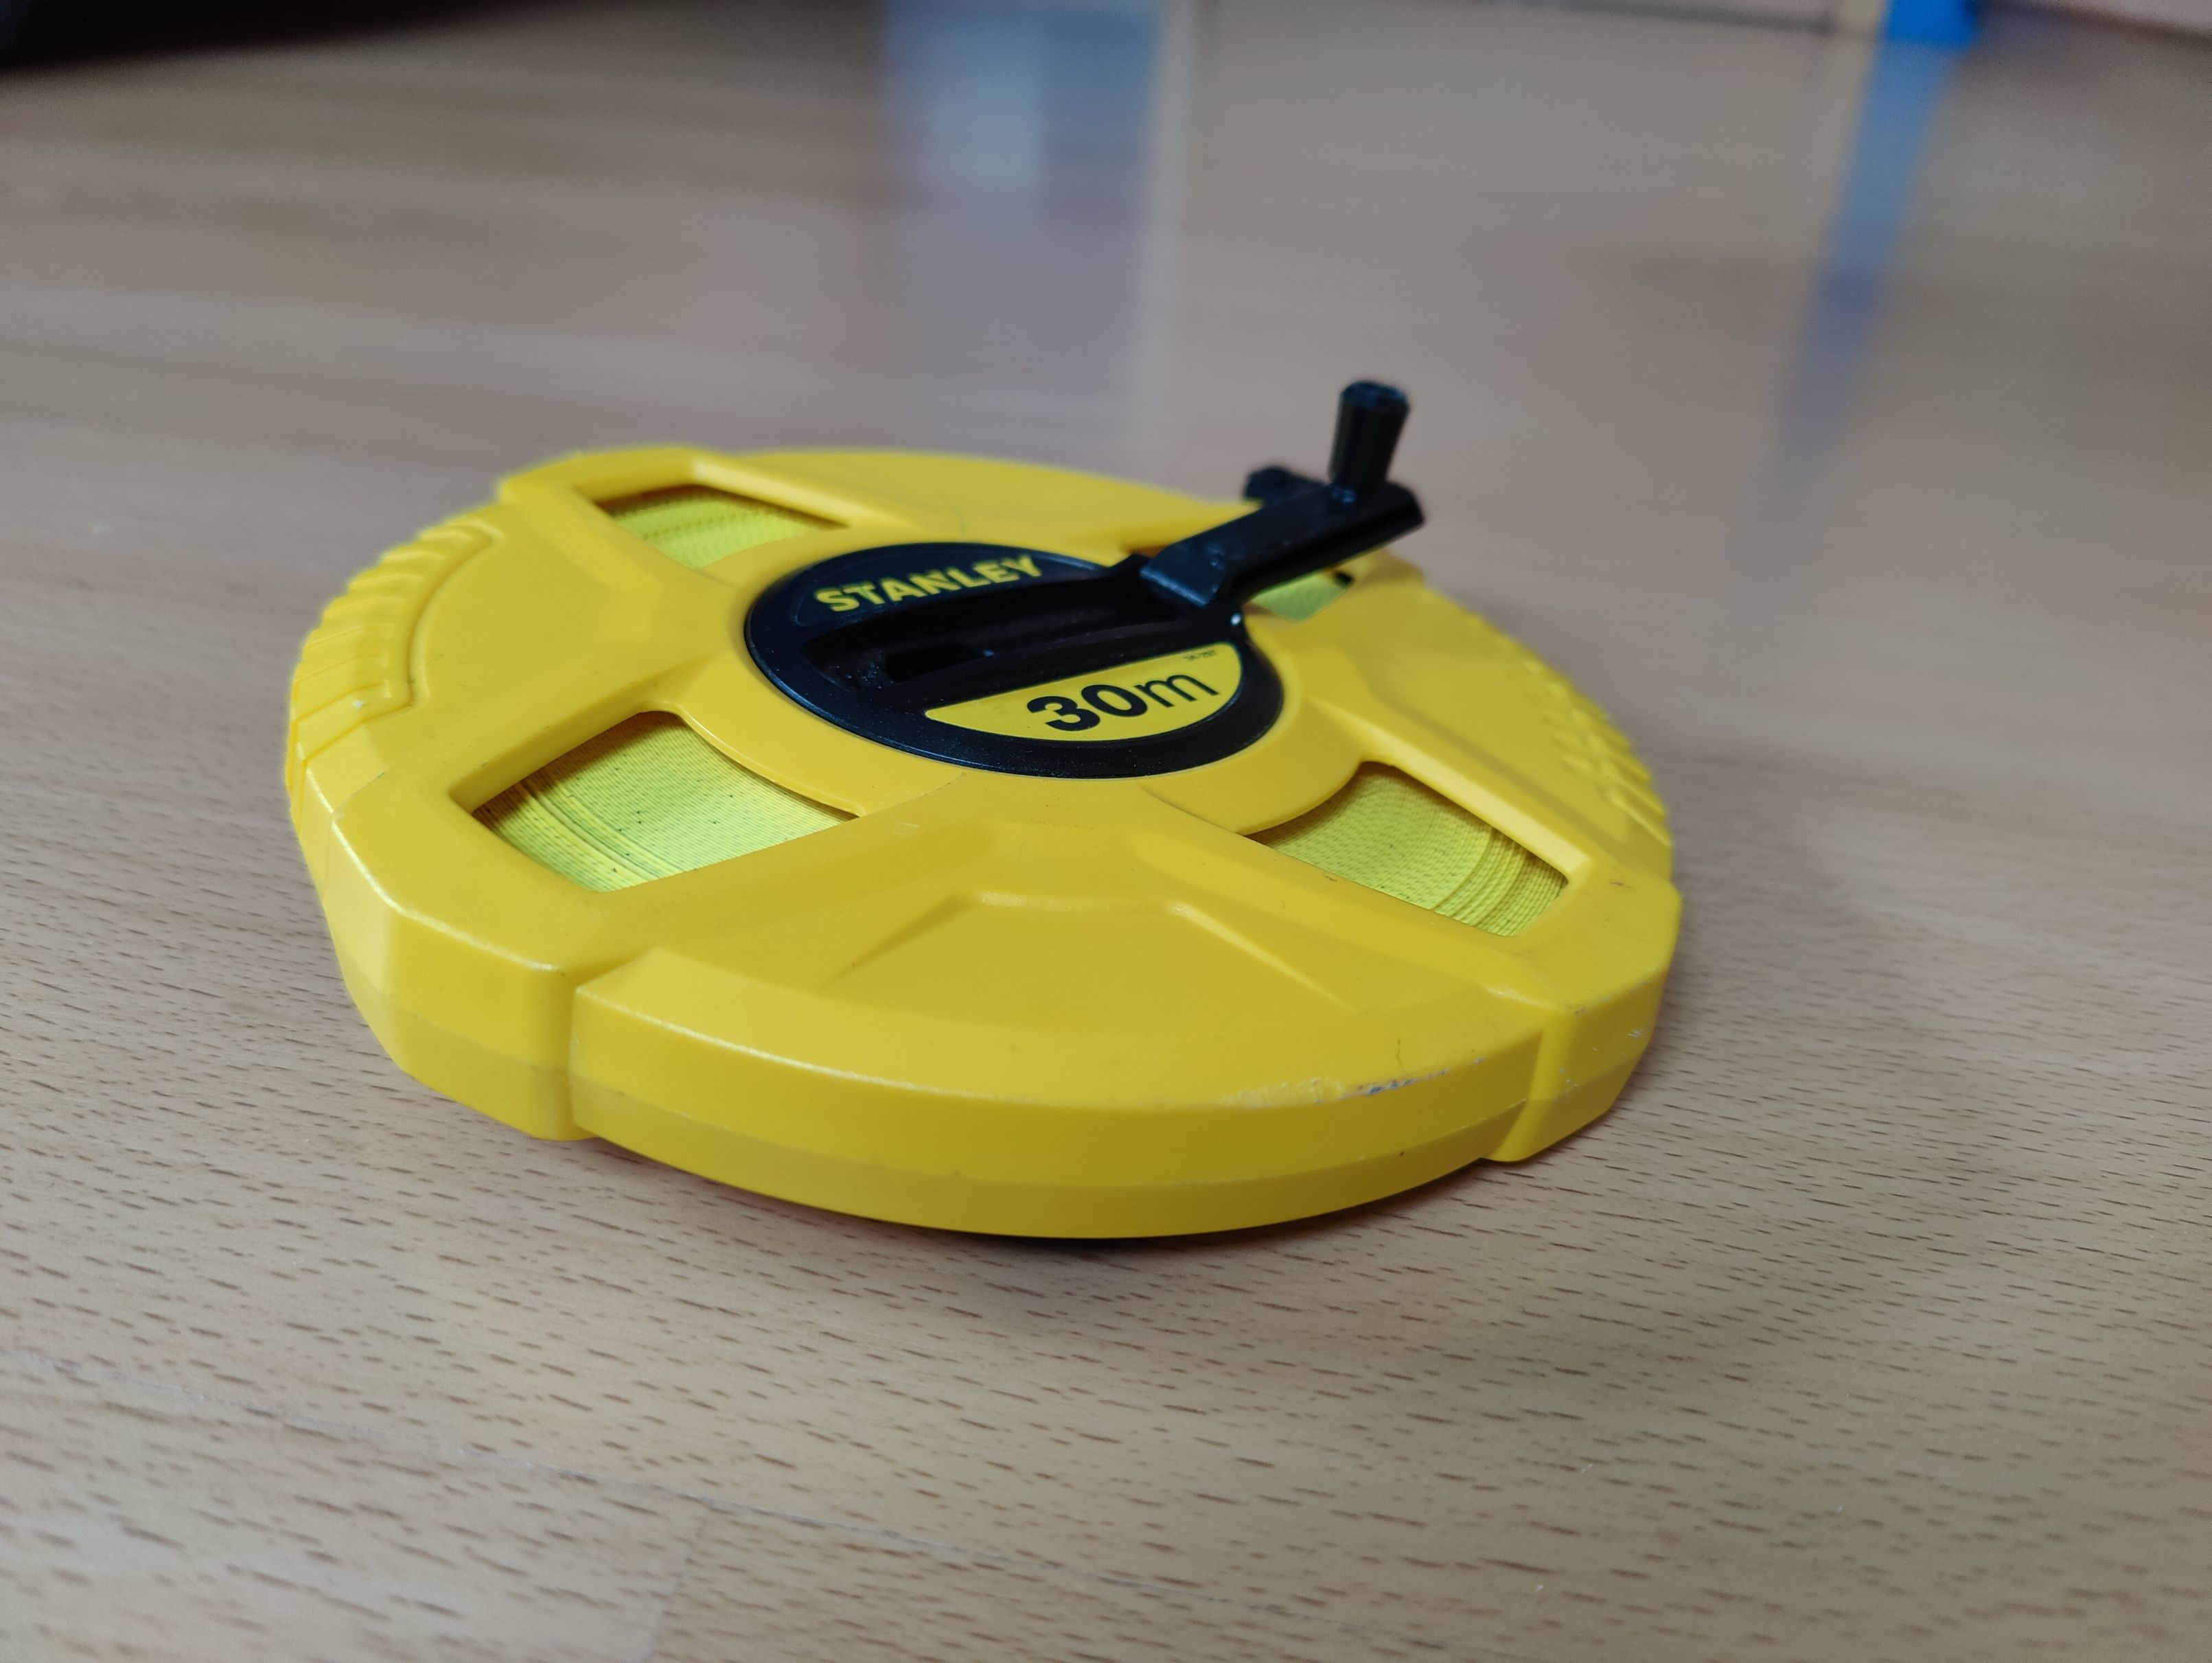tapemeasure: (285, 384, 1691, 1240)
